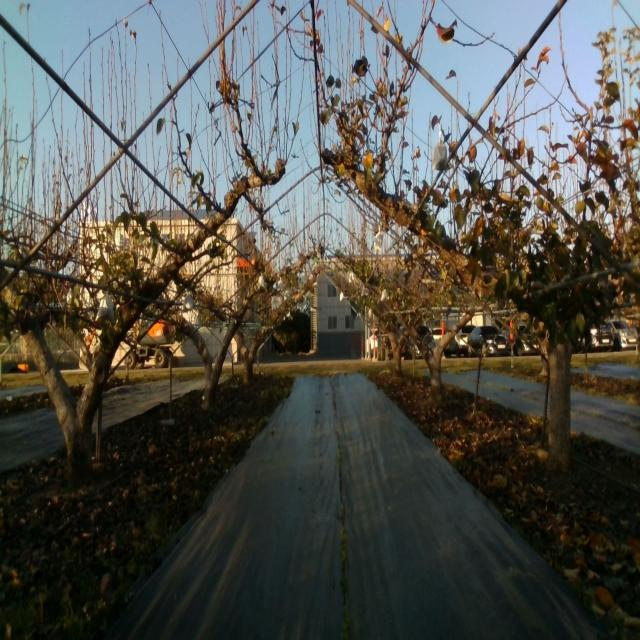pearbags: (95, 294, 115, 326), (431, 138, 448, 172), (373, 232, 384, 252), (182, 295, 194, 312)
